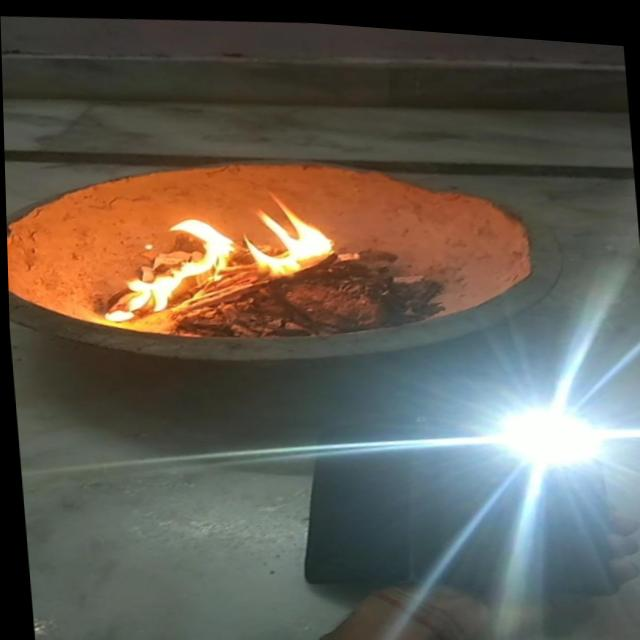fire: (89, 173, 350, 337)
